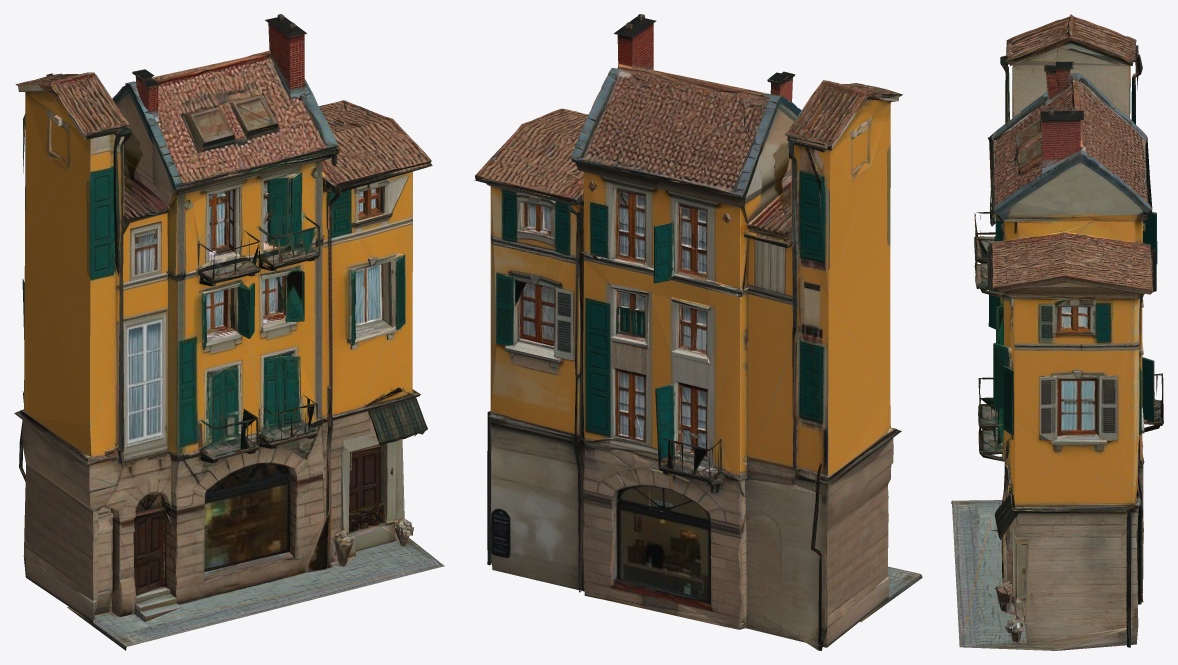
Rendered from townhouse.glb.
3 views of the same model, side by side, from view 1: azimuth 30°, elevation 25°; view 2: azimuth 150°, elevation 25°; view 3: azimuth 270°, elevation 25° (orthographic). The views are drawn at different scales.
Bounding box in the file's own units: 1.26 × 1.9 × 0.7394.
Materials: 1 (1 with a texture image).
